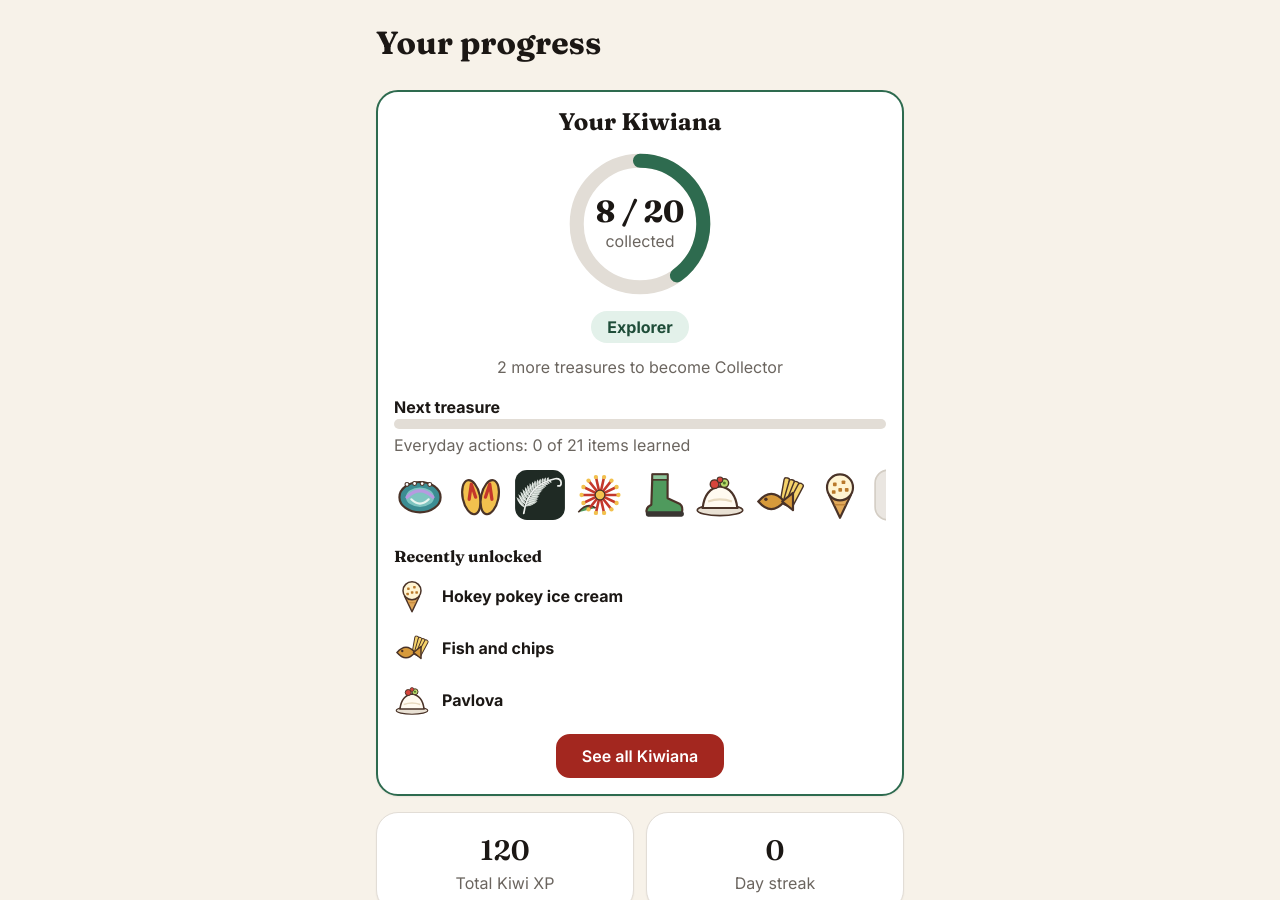
Progress: Your Kiwiana hero › has a shelf of all 20: colour tiles open the story, locked tiles say nothing about the treasure
This screenshot has width=1280, height=900.
Click the button named "Read about Pāua" at (420, 495), box [394,469,446,521]
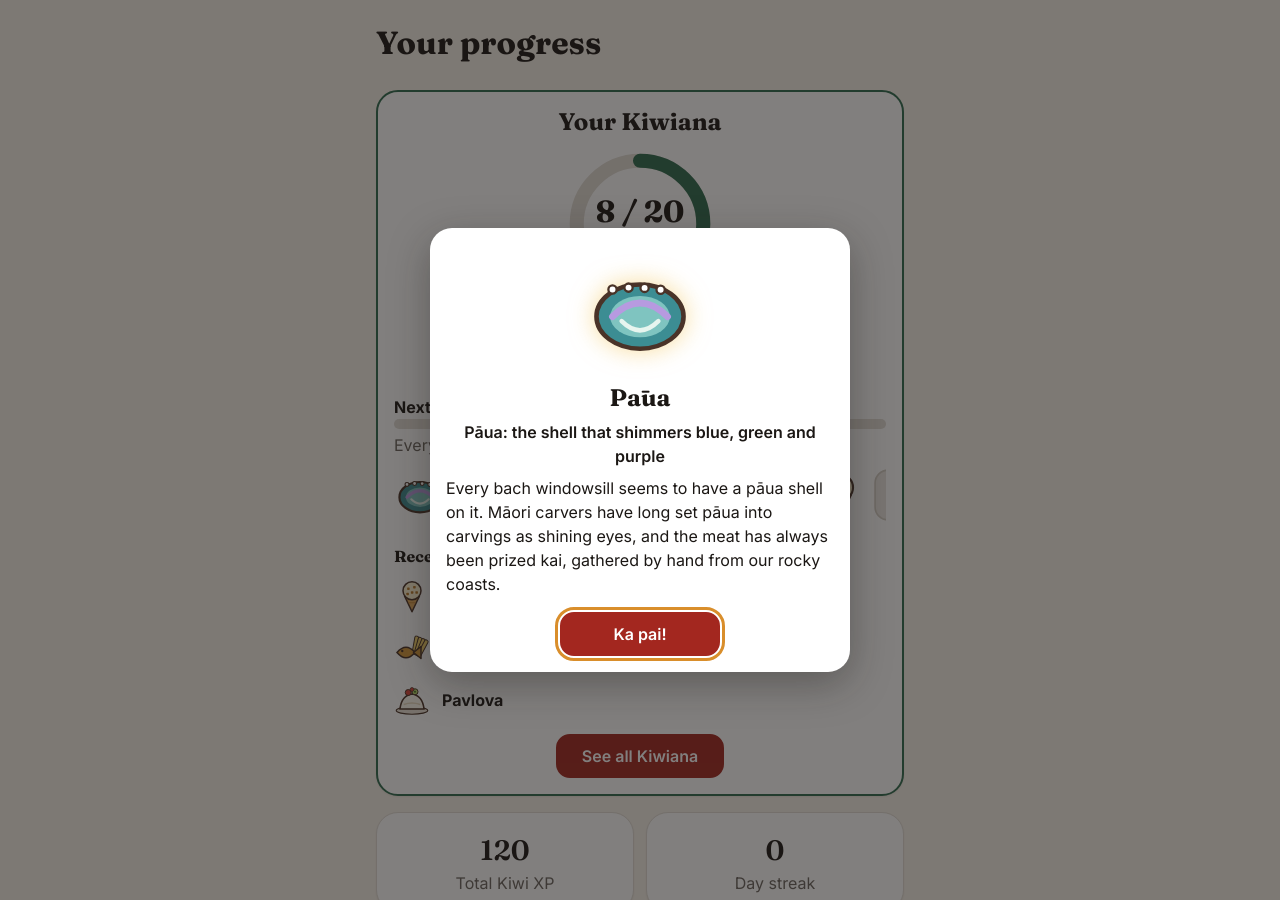
Expected: the dialog shows "shining eyes", [446,478,828,594]
